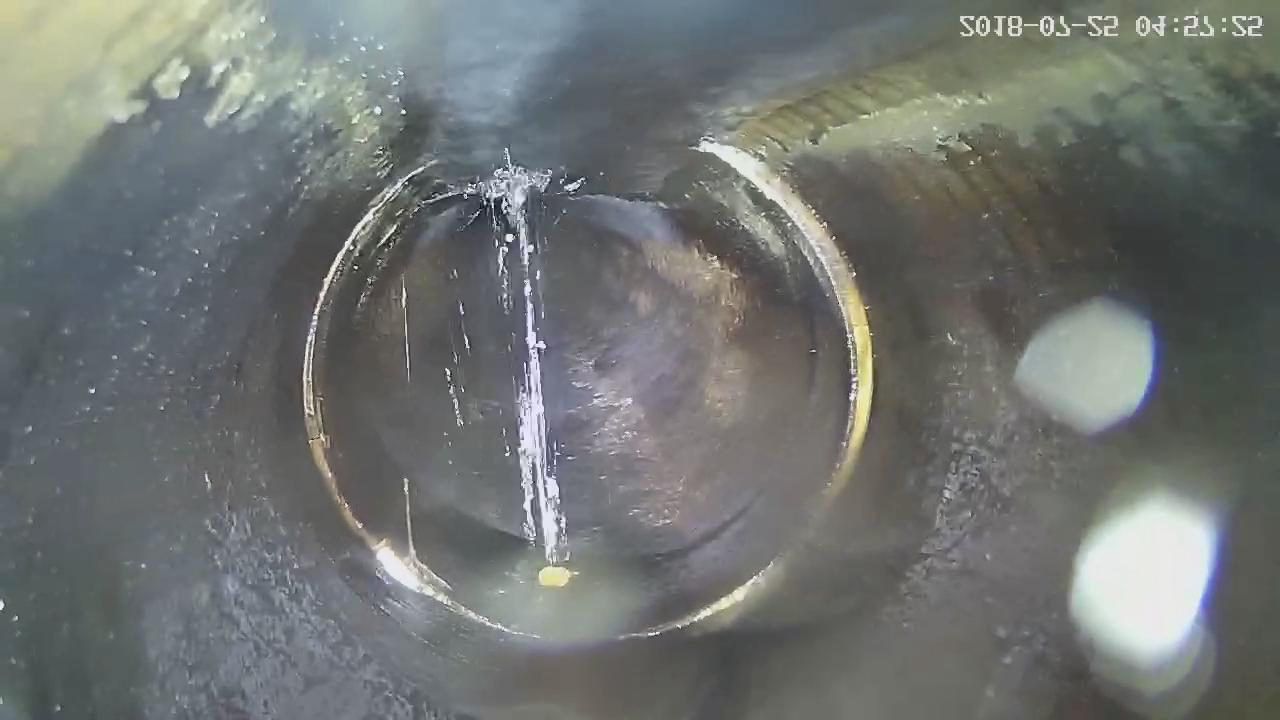CKTJ: (296, 131, 880, 652)
SL: (413, 155, 613, 600)
